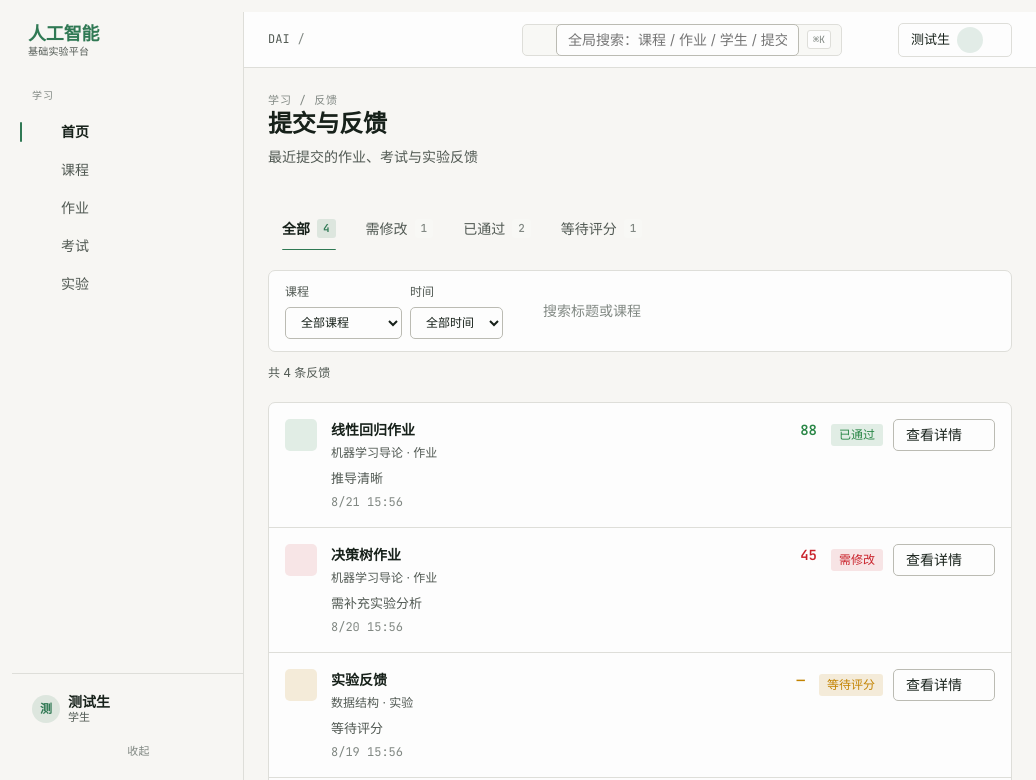
Test: 提交与反馈 FeedbackListView（参考图 01） › 课程与搜索组合过滤
This screenshot has width=1036, height=780.
Select "机器学习导论" in the dropdown with class "filter-course": (344, 322) [285, 306, 402, 338]
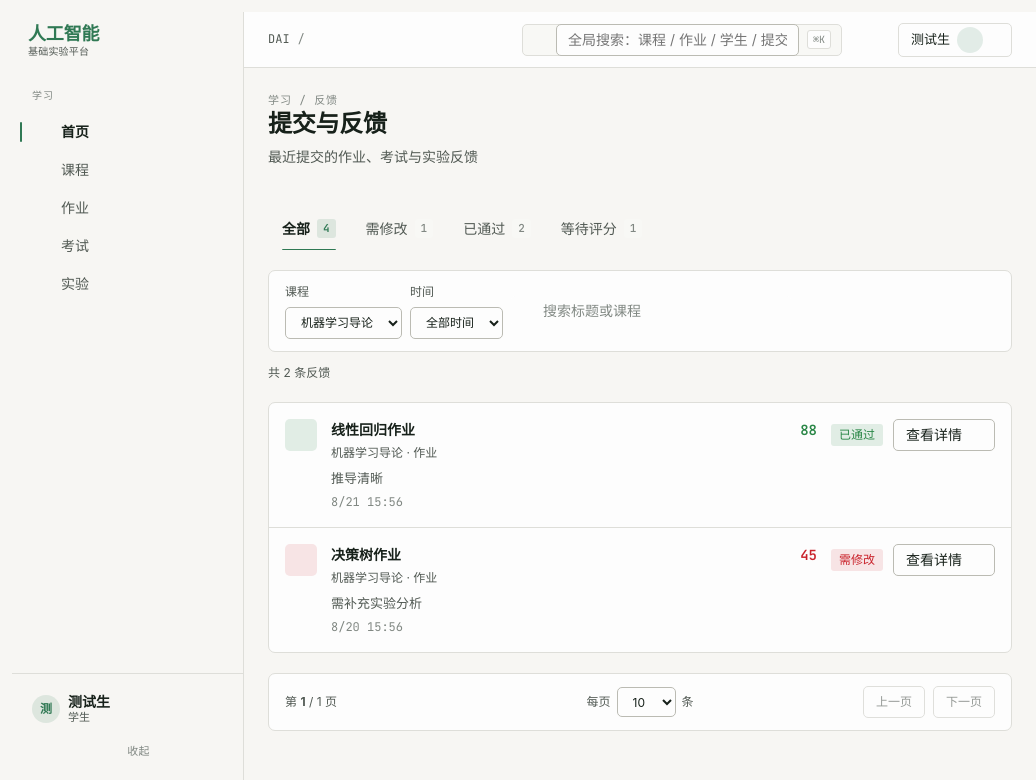
Now the number of elements with class "feedback-row" is 2, box [269, 403, 1011, 528]; [269, 528, 1011, 652]
In the search field with class "search-input": (651, 311) [511, 296, 791, 326], type "决策"
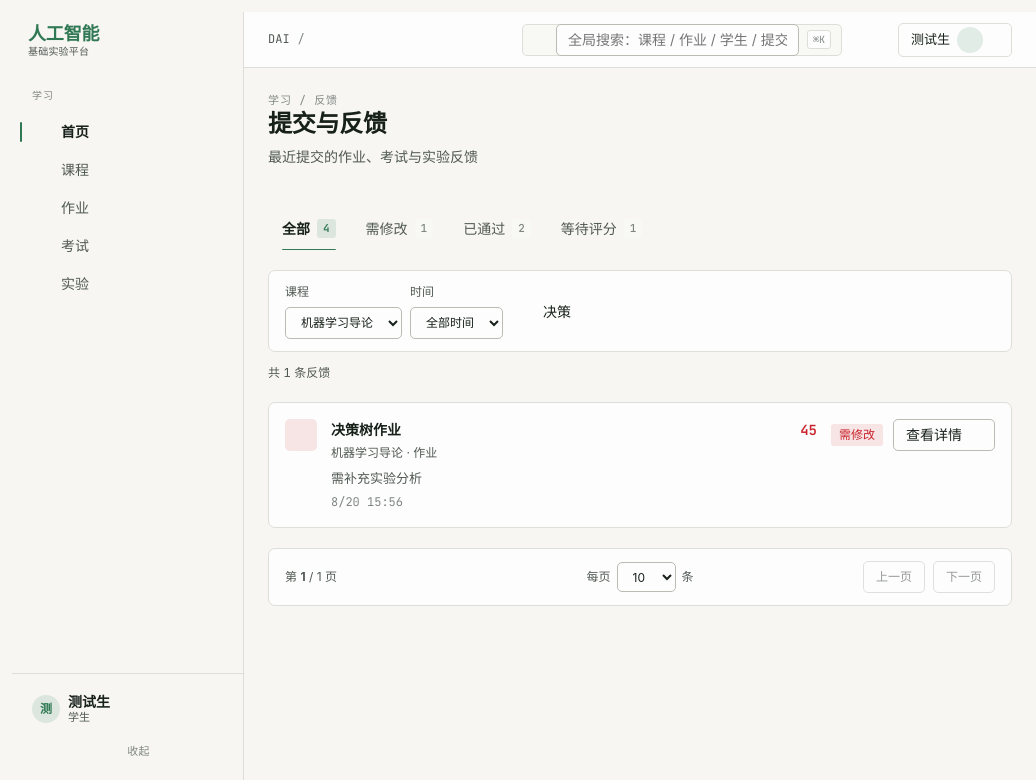
Now the number of elements with class "feedback-row" is 1, box [269, 403, 1011, 527]
